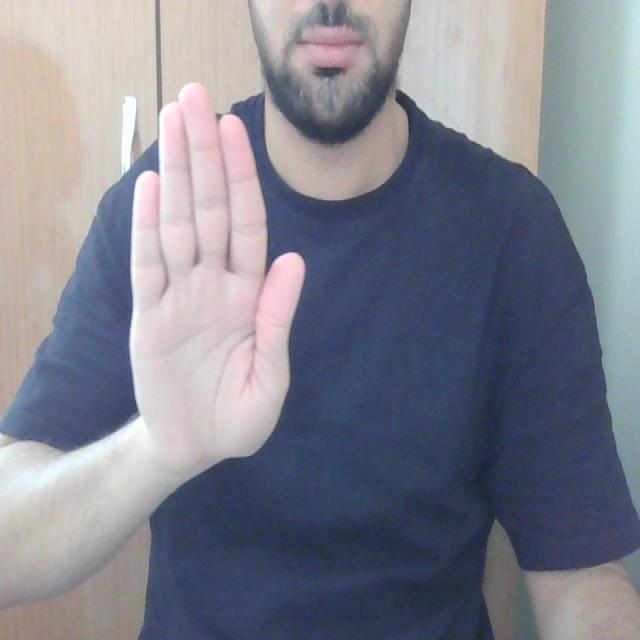Dur: (115, 47, 311, 483)
